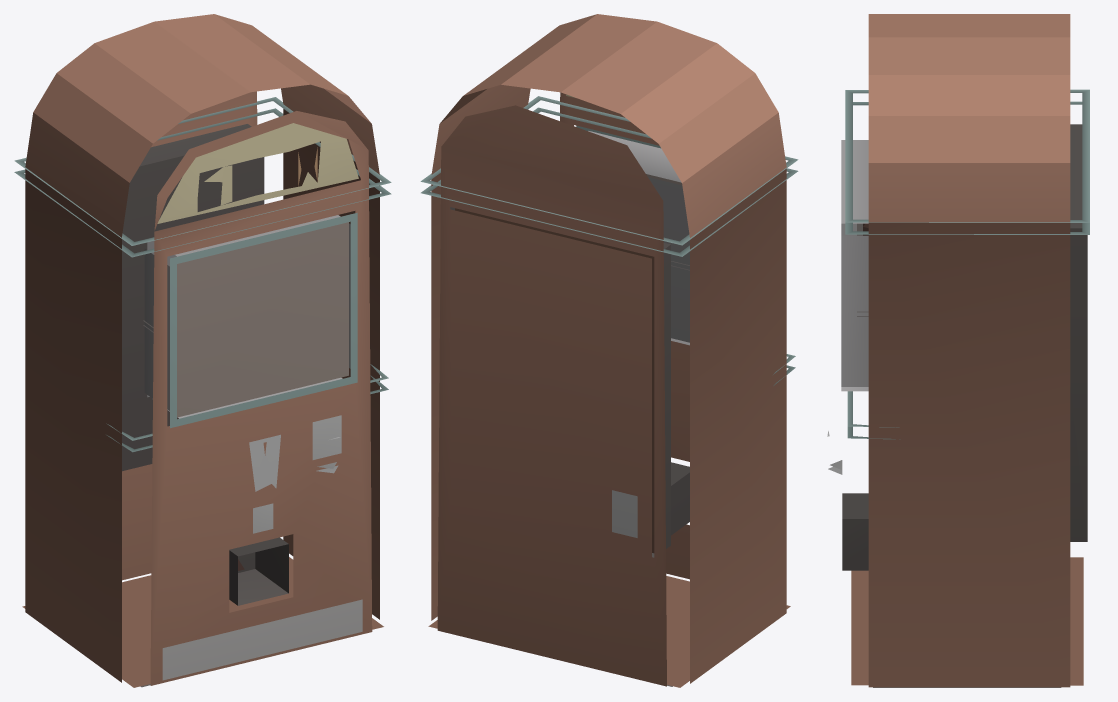
File: soda.lod.glb
3 views of the same model, side by side, from view 1: azimuth 30°, elevation 25°; view 2: azimuth 150°, elevation 25°; view 3: azimuth 270°, elevation 25° (orthographic). The views are drawn at different scales.
Visible parts, largest first — view 1: soda; view 2: soda; view 3: soda.
Boxes of the visible parts, bbox=[...] form: soda: bbox=[14, 14, 391, 687]; soda: bbox=[420, 14, 798, 687]; soda: bbox=[827, 14, 1089, 687].
Bounding box in the file's own units: 0.7197 × 1.5 × 0.6298.
